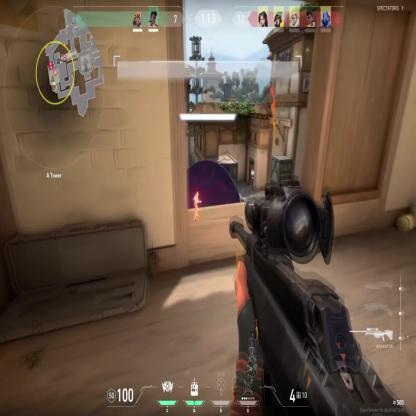enemy: (192, 188, 202, 223)
enemy_head: (196, 192, 199, 198)
